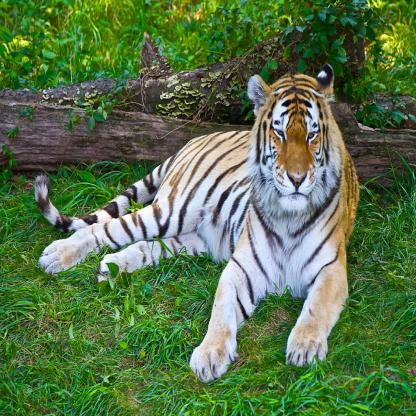Tiger: (33, 60, 361, 383)
